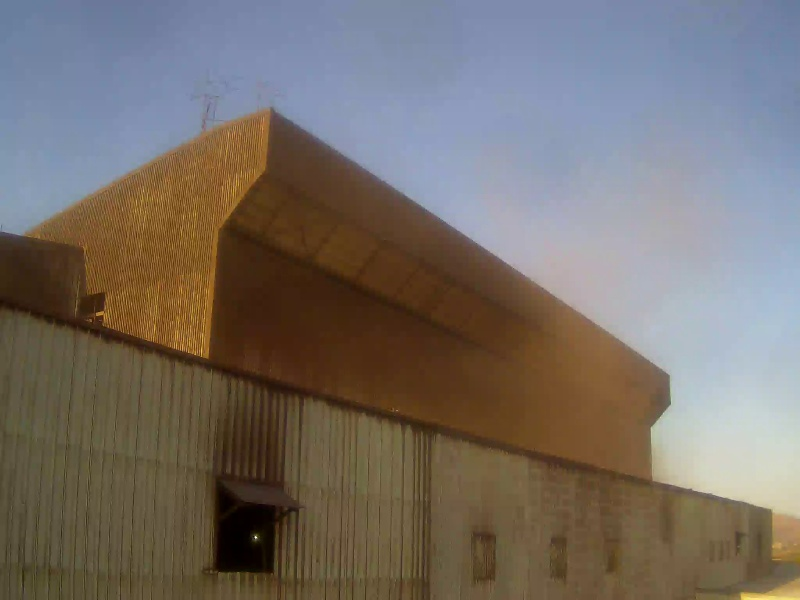Pessimo: (260, 94, 692, 508)
